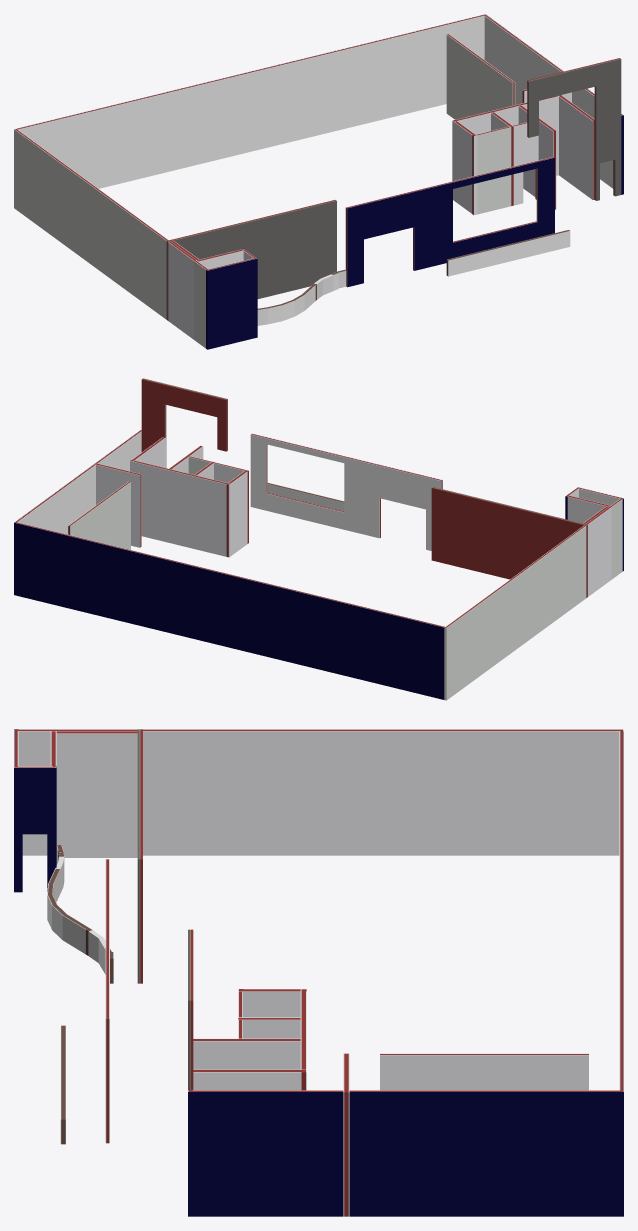
File: PROJETO BIM 12 ANDARES_T_rreo_IfcWallStandardCase.dae
3 views of the same model, one above another, from view 1: azimuth 30°, elevation 25°; view 2: azimuth 150°, elevation 25°; view 3: azimuth 270°, elevation 25° (orthographic). The views are drawn at different scales.
Parts seen in each view (by area): view 1: 0Ouhqo1cj48OnzCKtPWq4M, 0Ouhqo1cj48OnzCKtPWq7m, 0Ouhqo1cj48OnzCKtPWqJ9, 0Ouhqo1cj48OnzCKtPWqE2, 3t3ovZGvj8hxwYqH9C1VEd, 0Ouhqo1cj48OnzCKtPWqUu, 0Ouhqo1cj48OnzCKtPWqAD, 3t3ovZGvj8hxwYqH9C1VFF, 0Ouhqo1cj48OnzCKtPWq3b, 3t3ovZGvj8hxwYqH9C1VUM, 26GoA_wS143AyfeO9XmjrM, 0Ouhqo1cj48OnzCKtPWptk (+8 smaller); view 2: 0Ouhqo1cj48OnzCKtPWq4M, 0Ouhqo1cj48OnzCKtPWq7m, 0Ouhqo1cj48OnzCKtPWqE2, 0Ouhqo1cj48OnzCKtPWqJ9, 3t3ovZGvj8hxwYqH9C1VJo, 3t3ovZGvj8hxwYqH9C1VEd, 0Ouhqo1cj48OnzCKtPWq3b, 0Ouhqo1cj48OnzCKtPWqAD, 0Ouhqo1cj48OnzCKtPWptk, 3t3ovZGvj8hxwYqH9C1VAF, 3t3ovZGvj8hxwYqH9C1VHs, 0Ouhqo1cj48OnzCKtPWqTW (+5 smaller); view 3: 0Ouhqo1cj48OnzCKtPWq7m, 0Ouhqo1cj48OnzCKtPWq3b, 3t3ovZGvj8hxwYqH9C1V9x, 0Ouhqo1cj48OnzCKtPWptk, 0Ouhqo1cj48OnzCKtPWqAD, 3t3ovZGvj8hxwYqH9C1VK6, 0Ouhqo1cj48OnzCKtPWqSf, 3t3ovZGvj8hxwYqH9C1VFF, 0Ouhqo1cj48OnzCKtPWq4M, 0Ouhqo1cj48OnzCKtPWqTW, 3t3ovZGvj8hxwYqH9C1VHs, 0Ouhqo1cj48OnzCKtPWqE2 (+7 smaller).
Part boxes in pixels (x1=…): 0Ouhqo1cj48OnzCKtPWq4M: x1=17, y1=14, x2=486, y2=188; 0Ouhqo1cj48OnzCKtPWq7m: x1=14, y1=128, x2=168, y2=319; 0Ouhqo1cj48OnzCKtPWqJ9: x1=345, y1=156, x2=554, y2=287; 0Ouhqo1cj48OnzCKtPWqE2: x1=166, y1=200, x2=336, y2=320; 3t3ovZGvj8hxwYqH9C1VEd: x1=527, y1=58, x2=621, y2=200; 0Ouhqo1cj48OnzCKtPWqUu: x1=206, y1=257, x2=257, y2=349; 0Ouhqo1cj48OnzCKtPWqAD: x1=446, y1=34, x2=515, y2=119; 3t3ovZGvj8hxwYqH9C1VFF: x1=558, y1=95, x2=594, y2=199; 0Ouhqo1cj48OnzCKtPWq3b: x1=484, y1=15, x2=563, y2=104; 3t3ovZGvj8hxwYqH9C1VUM: x1=476, y1=126, x2=510, y2=214; 26GoA_wS143AyfeO9XmjrM: x1=446, y1=229, x2=570, y2=276; 0Ouhqo1cj48OnzCKtPWptk: x1=168, y1=241, x2=198, y2=339; 0Ouhqo1cj48OnzCKtPWq4M: x1=14, y1=522, x2=444, y2=699; 0Ouhqo1cj48OnzCKtPWq7m: x1=444, y1=525, x2=586, y2=700; 0Ouhqo1cj48OnzCKtPWqE2: x1=431, y1=487, x2=587, y2=597; 0Ouhqo1cj48OnzCKtPWqJ9: x1=250, y1=433, x2=442, y2=550; 3t3ovZGvj8hxwYqH9C1VJo: x1=133, y1=460, x2=230, y2=557; 3t3ovZGvj8hxwYqH9C1VEd: x1=141, y1=378, x2=227, y2=467; 0Ouhqo1cj48OnzCKtPWq3b: x1=15, y1=464, x2=95, y2=534; 0Ouhqo1cj48OnzCKtPWqAD: x1=68, y1=481, x2=130, y2=549; 0Ouhqo1cj48OnzCKtPWptk: x1=583, y1=506, x2=611, y2=596; 3t3ovZGvj8hxwYqH9C1VAF: x1=94, y1=463, x2=141, y2=547; 3t3ovZGvj8hxwYqH9C1VHs: x1=228, y1=470, x2=248, y2=555; 0Ouhqo1cj48OnzCKtPWqTW: x1=609, y1=499, x2=622, y2=579; 0Ouhqo1cj48OnzCKtPWq7m: x1=143, y1=729, x2=623, y2=855; 0Ouhqo1cj48OnzCKtPWq3b: x1=349, y1=1090, x2=619, y2=1216; 3t3ovZGvj8hxwYqH9C1V9x: x1=188, y1=1090, x2=343, y2=1216; 0Ouhqo1cj48OnzCKtPWptk: x1=56, y1=729, x2=137, y2=857; 0Ouhqo1cj48OnzCKtPWqAD: x1=380, y1=1053, x2=588, y2=1090; 3t3ovZGvj8hxwYqH9C1VK6: x1=193, y1=1038, x2=300, y2=1069; 0Ouhqo1cj48OnzCKtPWqSf: x1=18, y1=766, x2=56, y2=892; 3t3ovZGvj8hxwYqH9C1VFF: x1=193, y1=1069, x2=306, y2=1090; 0Ouhqo1cj48OnzCKtPWq4M: x1=619, y1=731, x2=623, y2=1216; 0Ouhqo1cj48OnzCKtPWqTW: x1=18, y1=729, x2=56, y2=855; 3t3ovZGvj8hxwYqH9C1VHs: x1=238, y1=989, x2=300, y2=1017; 0Ouhqo1cj48OnzCKtPWqE2: x1=137, y1=729, x2=142, y2=983.
Size of the model in its own units: 28.15 by 20 by 7.74.
